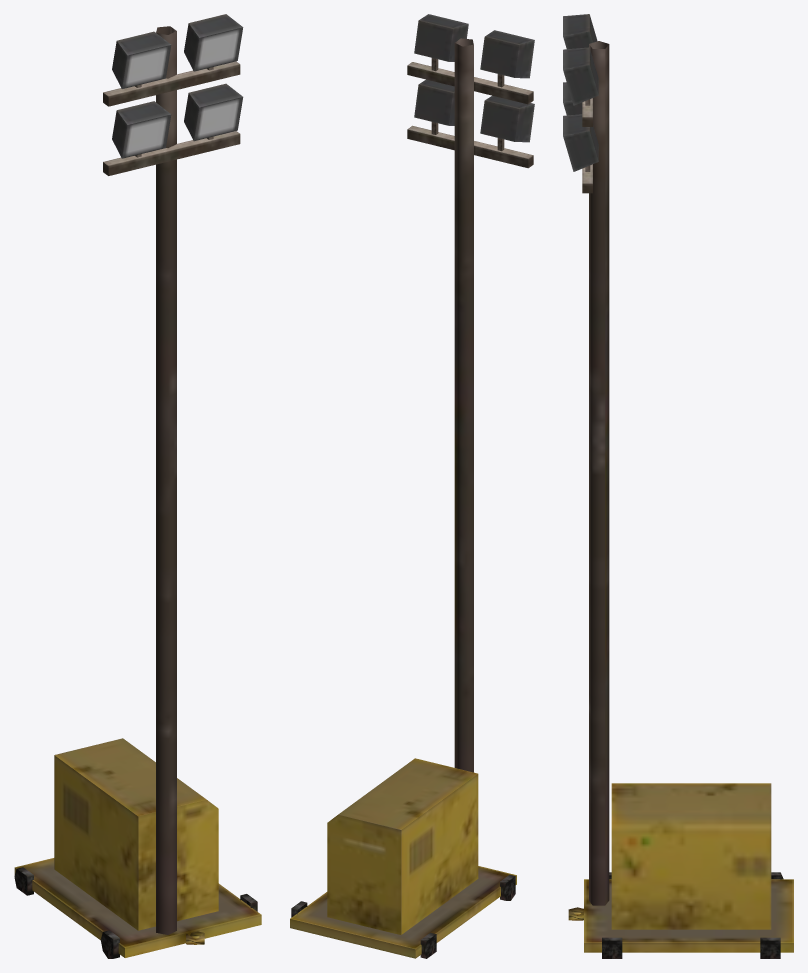
The model's file is floodlight-stand.lod1.glb.
3 renders of one model, left to right at view 1: azimuth 30°, elevation 25°; view 2: azimuth 150°, elevation 25°; view 3: azimuth 270°, elevation 25°, orthographic. The views are drawn at different scales.
Visible parts, largest first — view 1: pCylinder6_lambert1_0; view 2: pCylinder6_lambert1_0; view 3: pCylinder6_lambert1_0.
Part boxes in pixels (bbox=[...]): pCylinder6_lambert1_0: bbox=[14, 14, 261, 958]; pCylinder6_lambert1_0: bbox=[290, 14, 534, 958]; pCylinder6_lambert1_0: bbox=[563, 14, 793, 958].
Bounding box in the file's own units: 0.7212 × 4 × 0.9507.
1 material, 1 textured.
